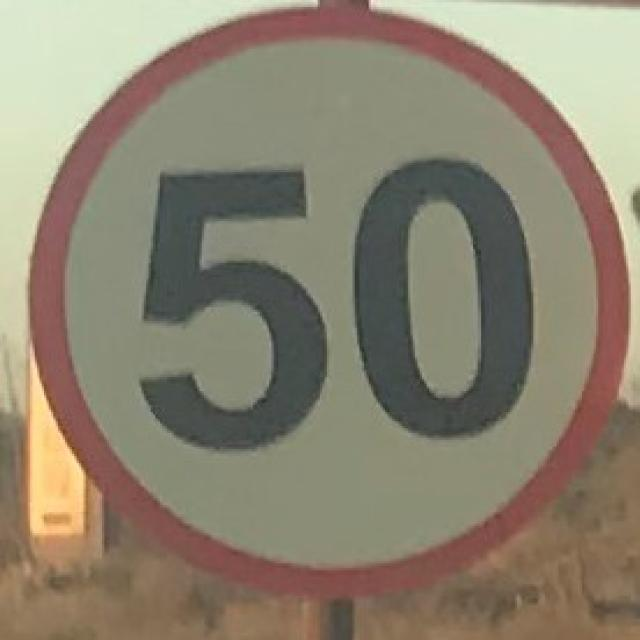Limite-50: (25, 5, 632, 601)
